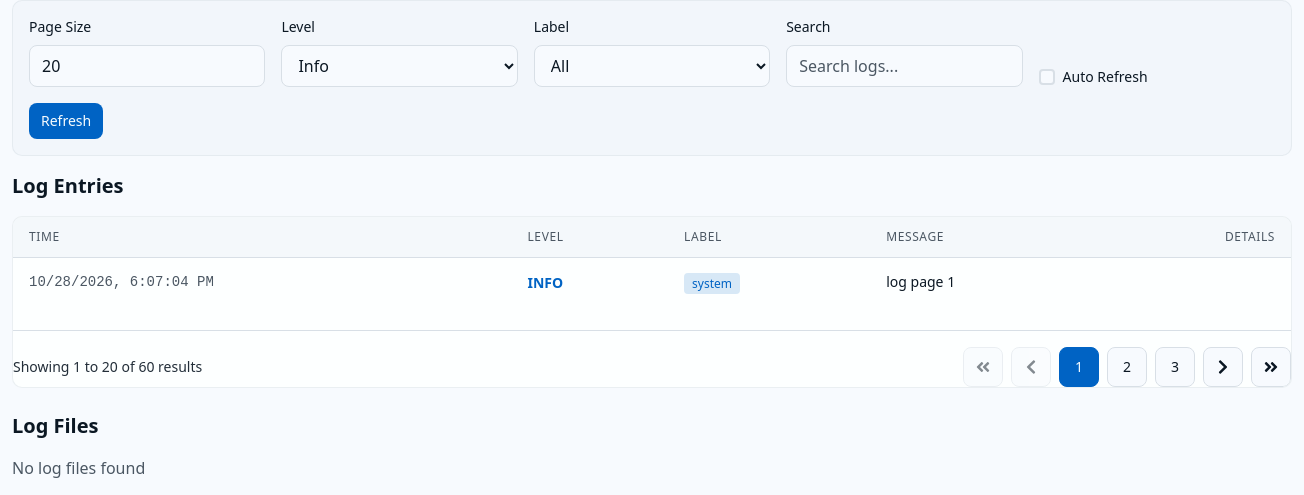
it: LogsTab › renders pagination and navigates pages
Expected: the text "Showing 1 to 20 of 60 results" is shown, [13, 357, 202, 377]
Expected: the button named "First page" is shown, [963, 347, 1003, 387]
Click the button named "Next": (1223, 367) [1203, 347, 1243, 387]
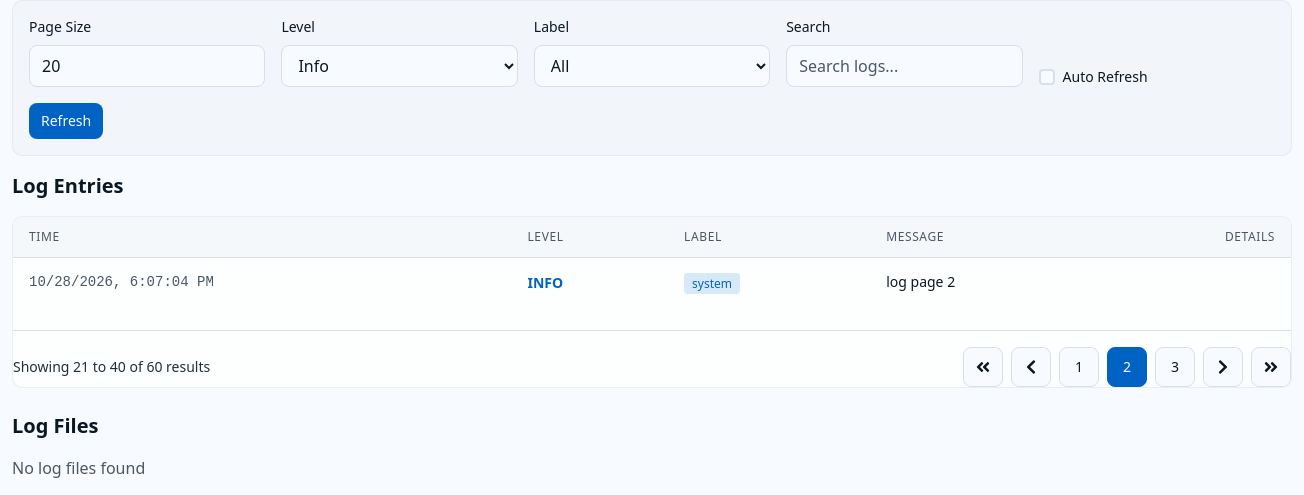
Expected: the text "Showing 21 to 40 of 60 results" is shown, [13, 357, 210, 377]
Click the button named "Last page": (1271, 367) [1251, 347, 1291, 387]
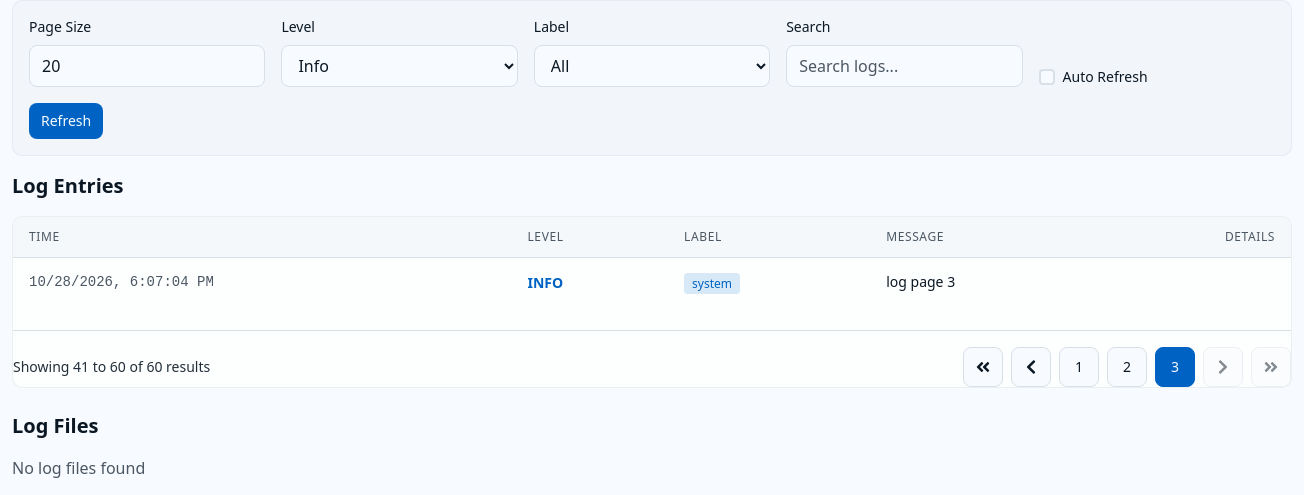
Expected: the text "Showing 41 to 60 of 60 results" is shown, [13, 357, 210, 377]
Click the button "1": (1079, 367) [1059, 347, 1099, 387]
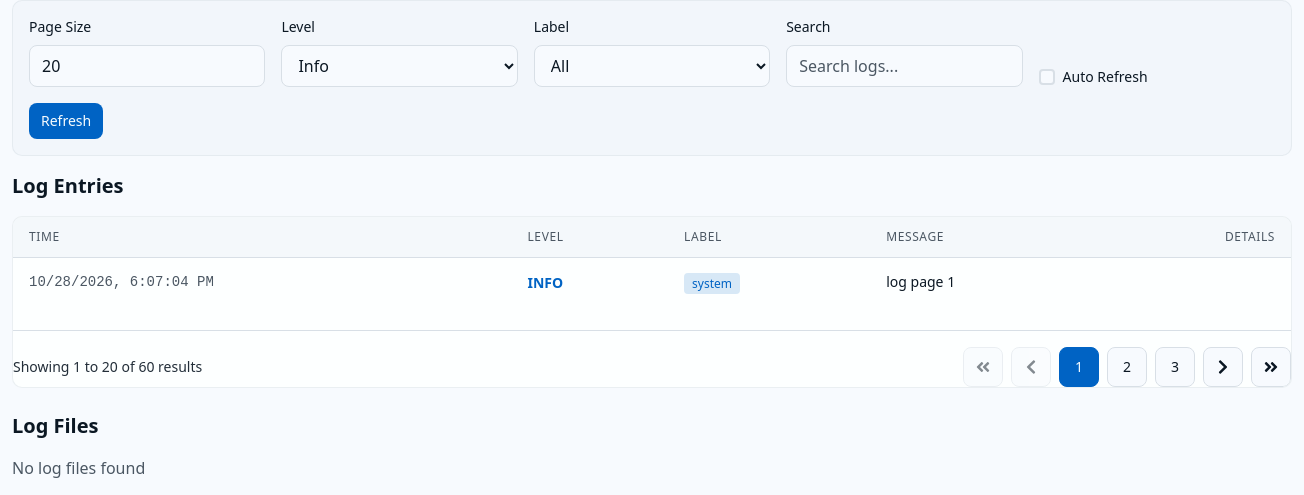
Expected: the text "Showing 1 to 20 of 60 results" is shown, [13, 357, 202, 377]
